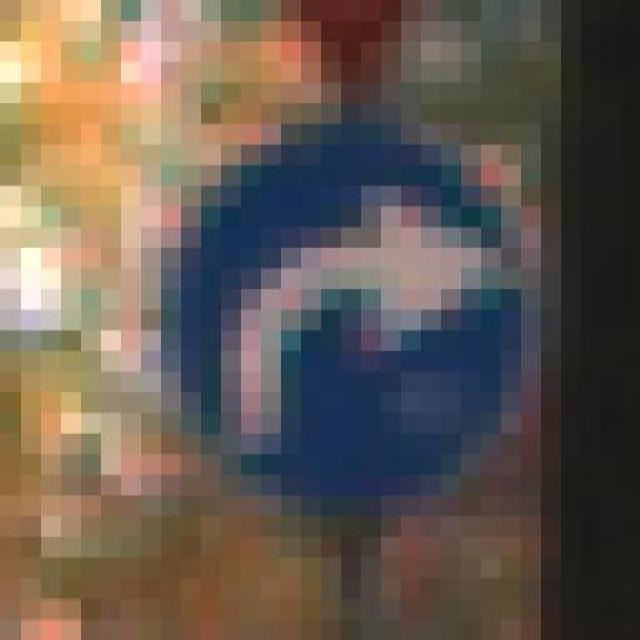Turn right ahead: (120, 82, 540, 516)
